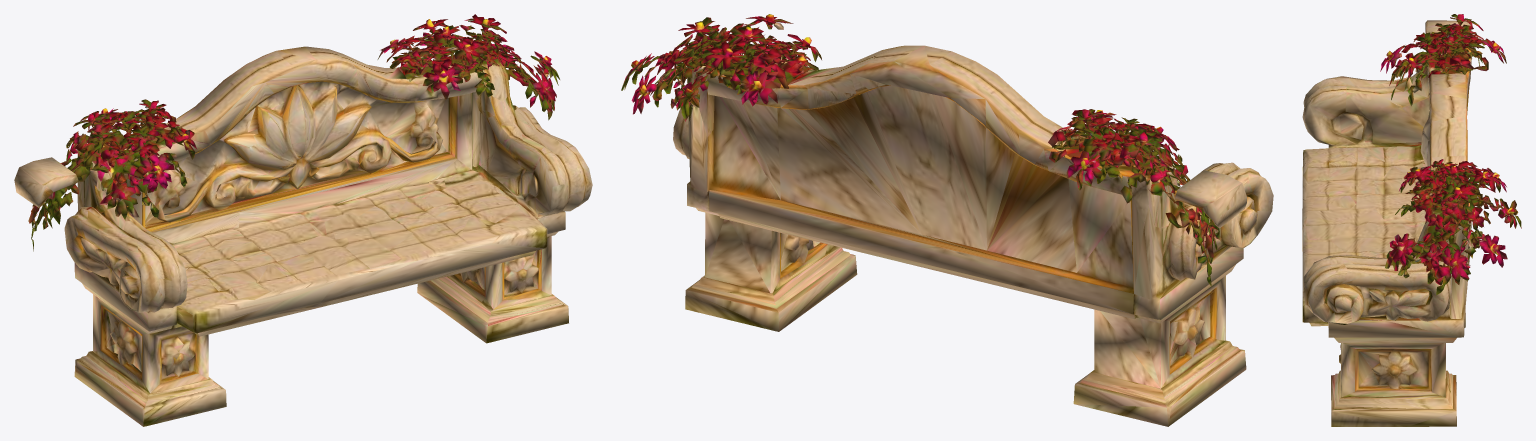
File: banca.glb
3 views of the same model, side by side, from view 1: azimuth 30°, elevation 25°; view 2: azimuth 150°, elevation 25°; view 3: azimuth 270°, elevation 25° (orthographic). The views are drawn at different scales.
Parts seen in each view (by area): view 1: Mesh_0; view 2: Mesh_0; view 3: Mesh_0.
Boxes of the visible parts, x1,y1,x2,y2 form: Mesh_0: [14, 14, 592, 426]; Mesh_0: [621, 14, 1273, 426]; Mesh_0: [1302, 14, 1521, 426].
Bounding box in the file's own units: 1.9 × 0.9277 × 0.7445.
1 material, 1 textured.
